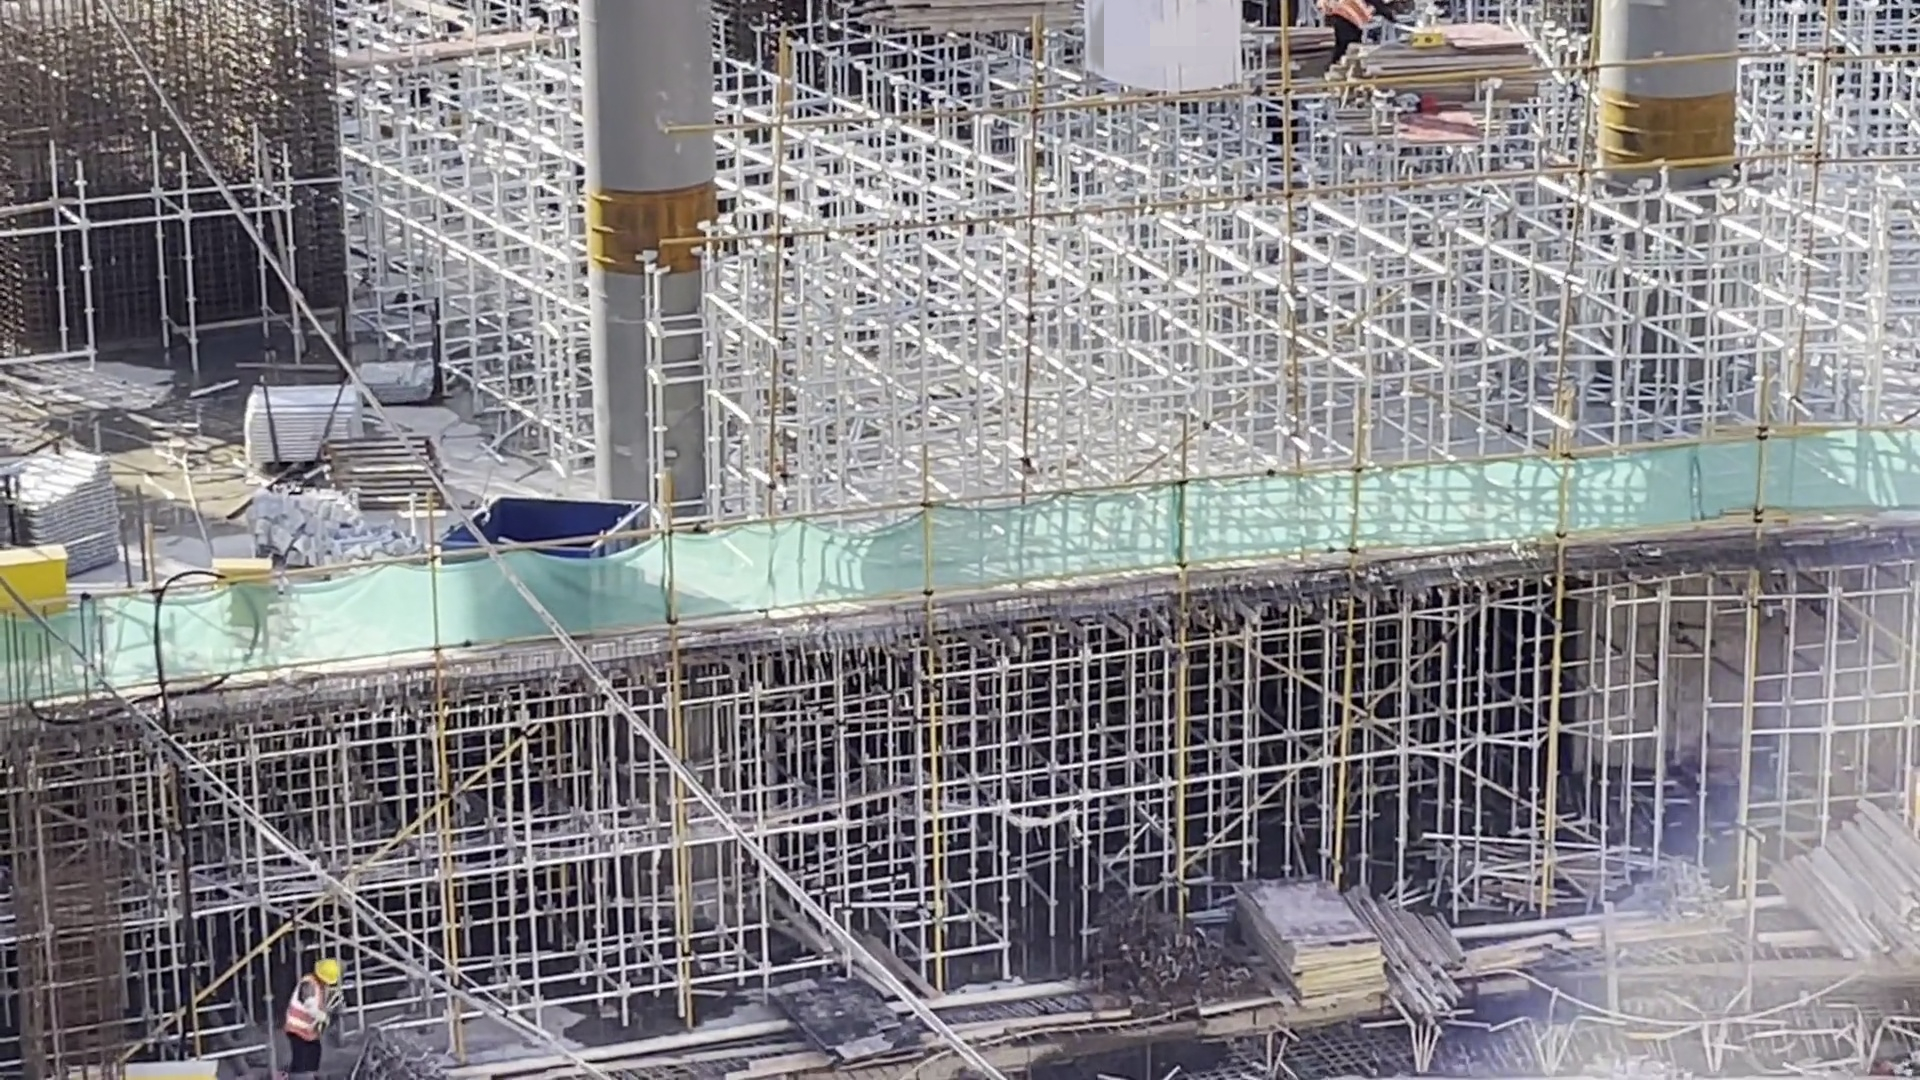board: (1231, 854, 1394, 1024)
ebox: (1, 543, 84, 671), (203, 542, 269, 631), (69, 1047, 173, 1080)
helmet: (310, 966, 340, 988)
hopper: (474, 489, 664, 634)
person: (276, 955, 334, 1080), (1338, 1, 1361, 73)
scaffold: (32, 457, 137, 577), (259, 382, 369, 461)
vest: (296, 982, 334, 1046), (1340, 1, 1365, 32)
wood: (1796, 826, 1920, 959)
